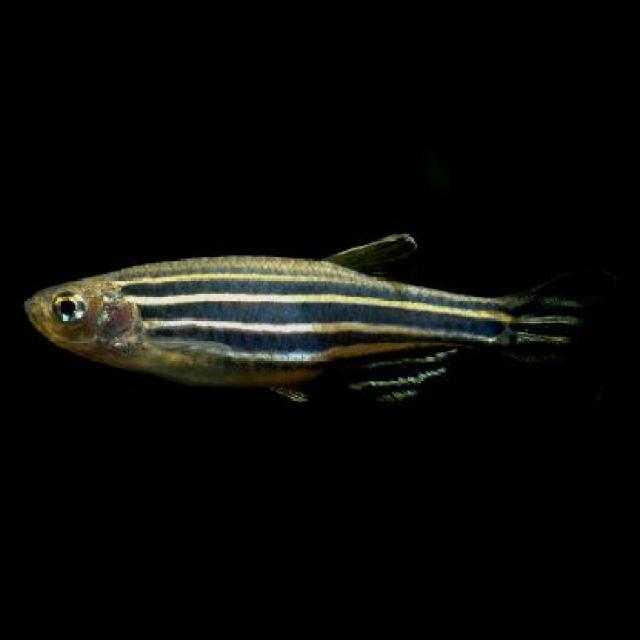ZebraFish: (21, 230, 613, 407)
